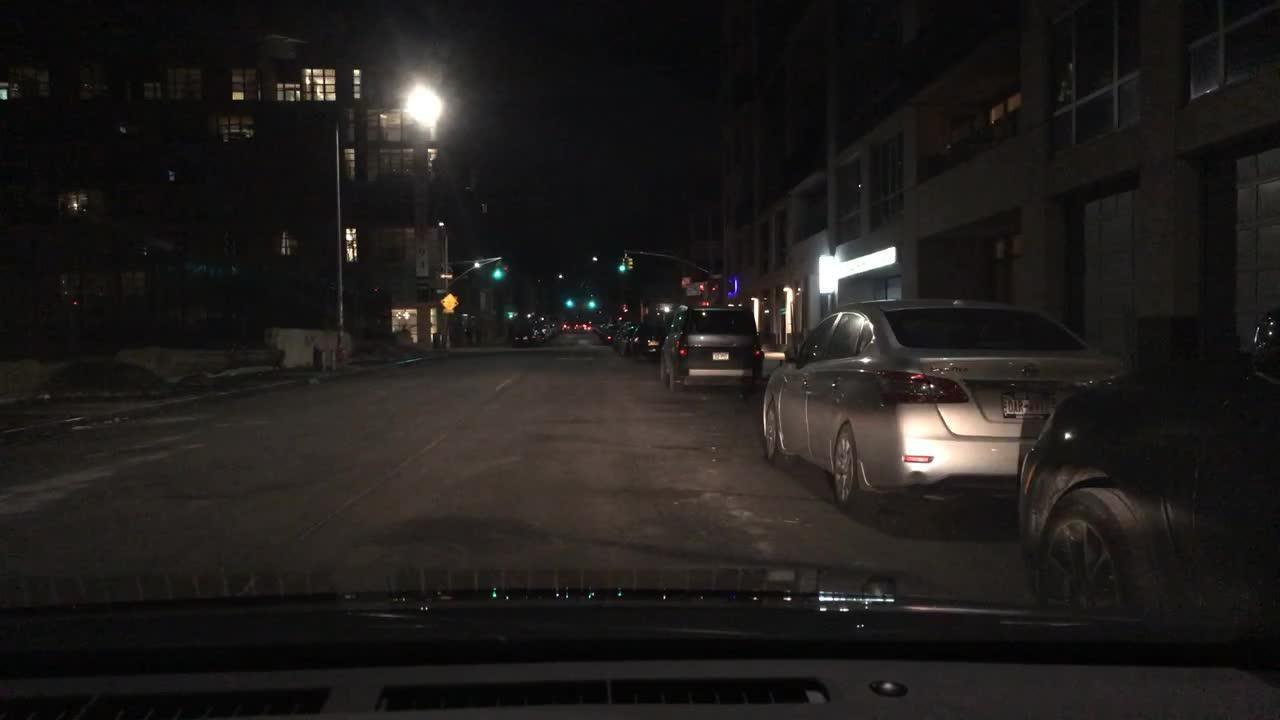Nissan: (1016, 358, 1041, 381)
